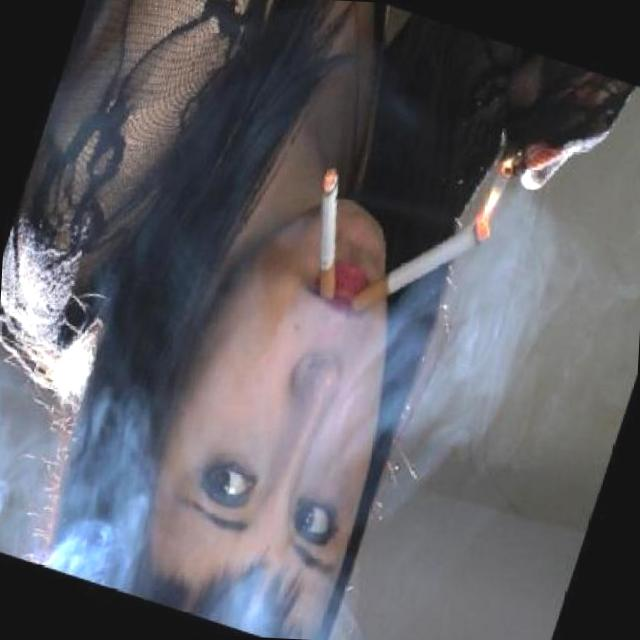cigarette: (343, 182, 497, 356), (286, 163, 376, 310)
